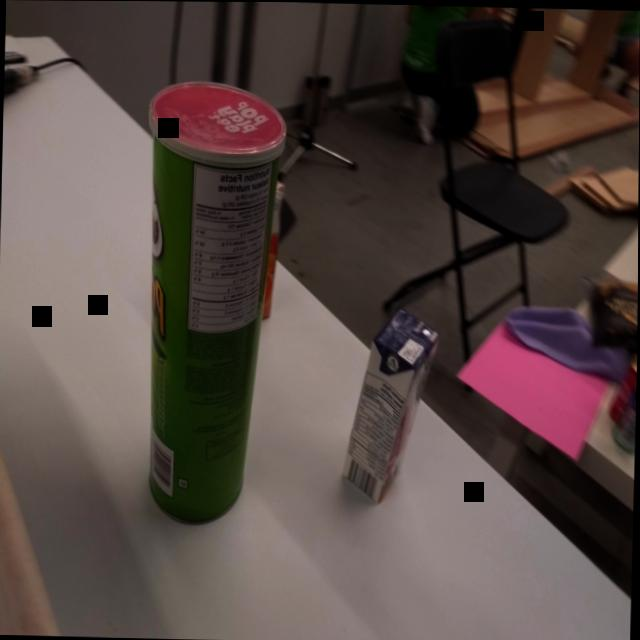grape_juice: (337, 304, 443, 514)
pringles: (133, 74, 293, 531)
